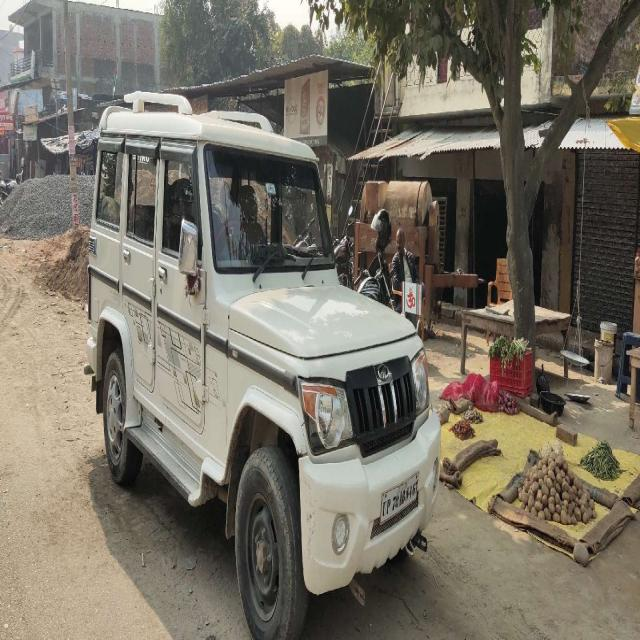light_vehicle: (92, 106, 440, 561)
